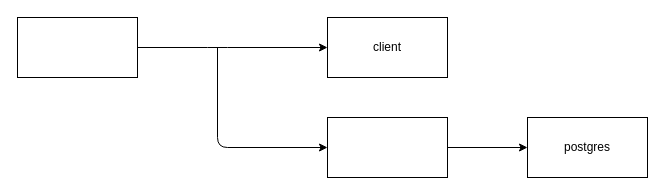
This 665x195 diagram has some shape labels left out. The shapes that lost their labels are listed below. From the top down, each one's box as (x1, y1, x2, y2) in pixels, then its label:
(16, 16, 138, 78): Nginx
(326, 116, 448, 178): server
